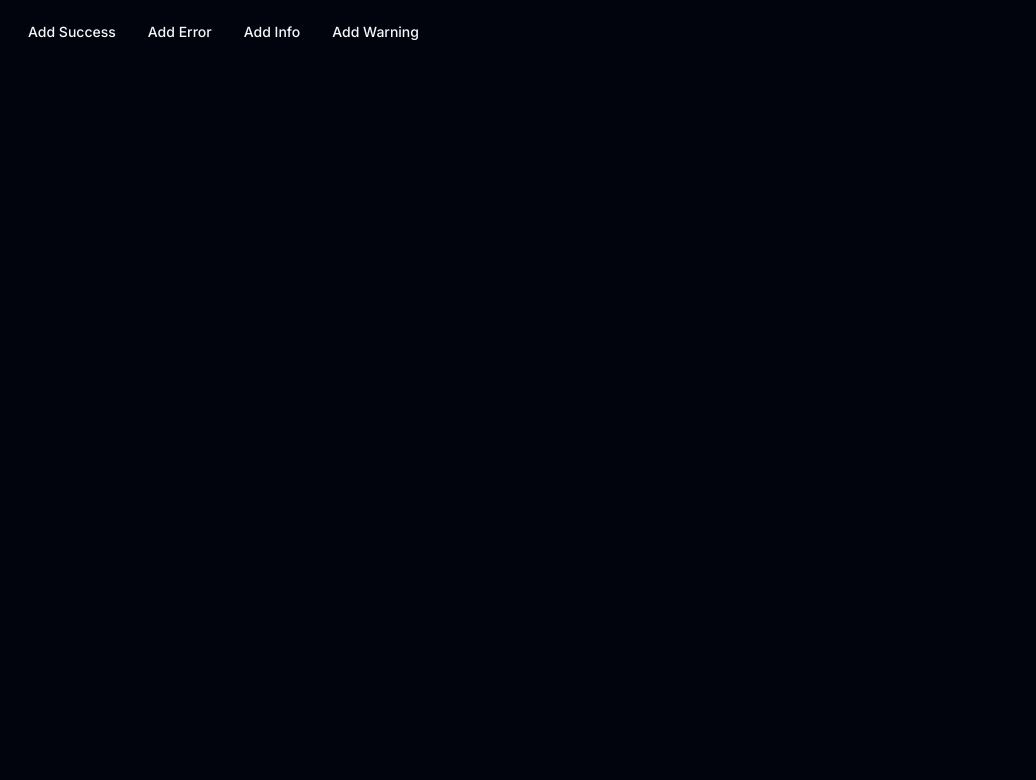
Test: ToastContext › adds an error toast with alert role
The width and height of the screenshot is (1036, 780).
Click the button "Add Error" at (180, 32), box x1=132 y1=12 x2=228 y2=52
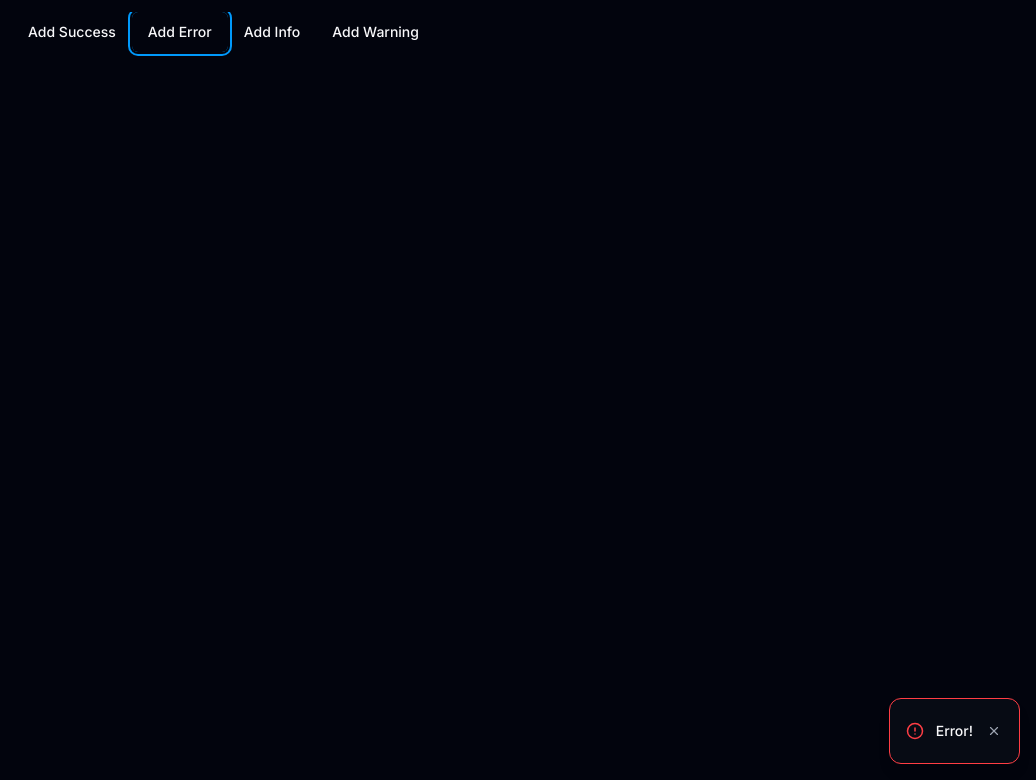
Now the message "Error!" is shown, box x1=889 y1=698 x2=1020 y2=764
